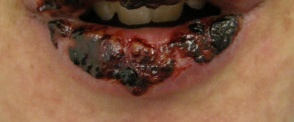SJS-TEN: (32, 0, 252, 97)
